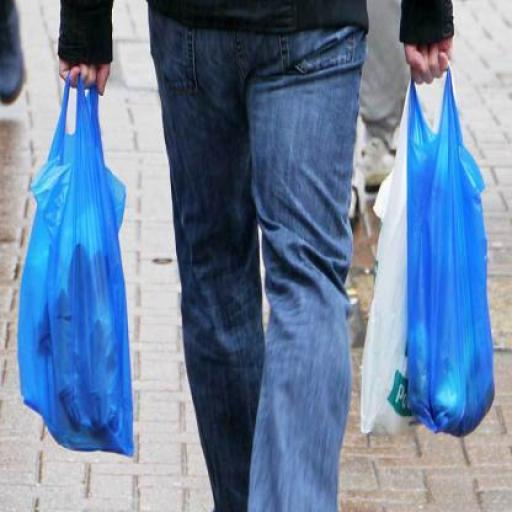plastic bag: (362, 62, 496, 451), (17, 72, 140, 468)
